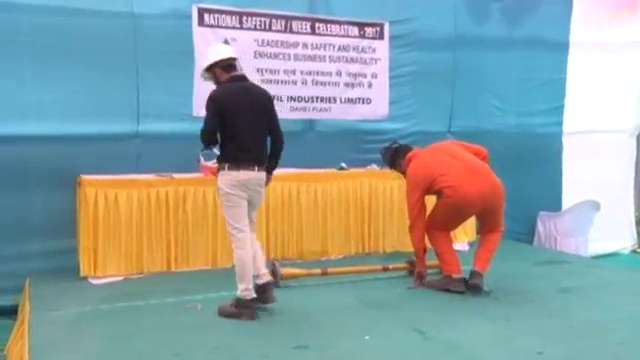helmet: (200, 45, 239, 78)
helmet_off: (391, 143, 412, 171)
helmet_on: (197, 45, 245, 88)
person: (196, 41, 284, 318), (389, 140, 507, 296)
